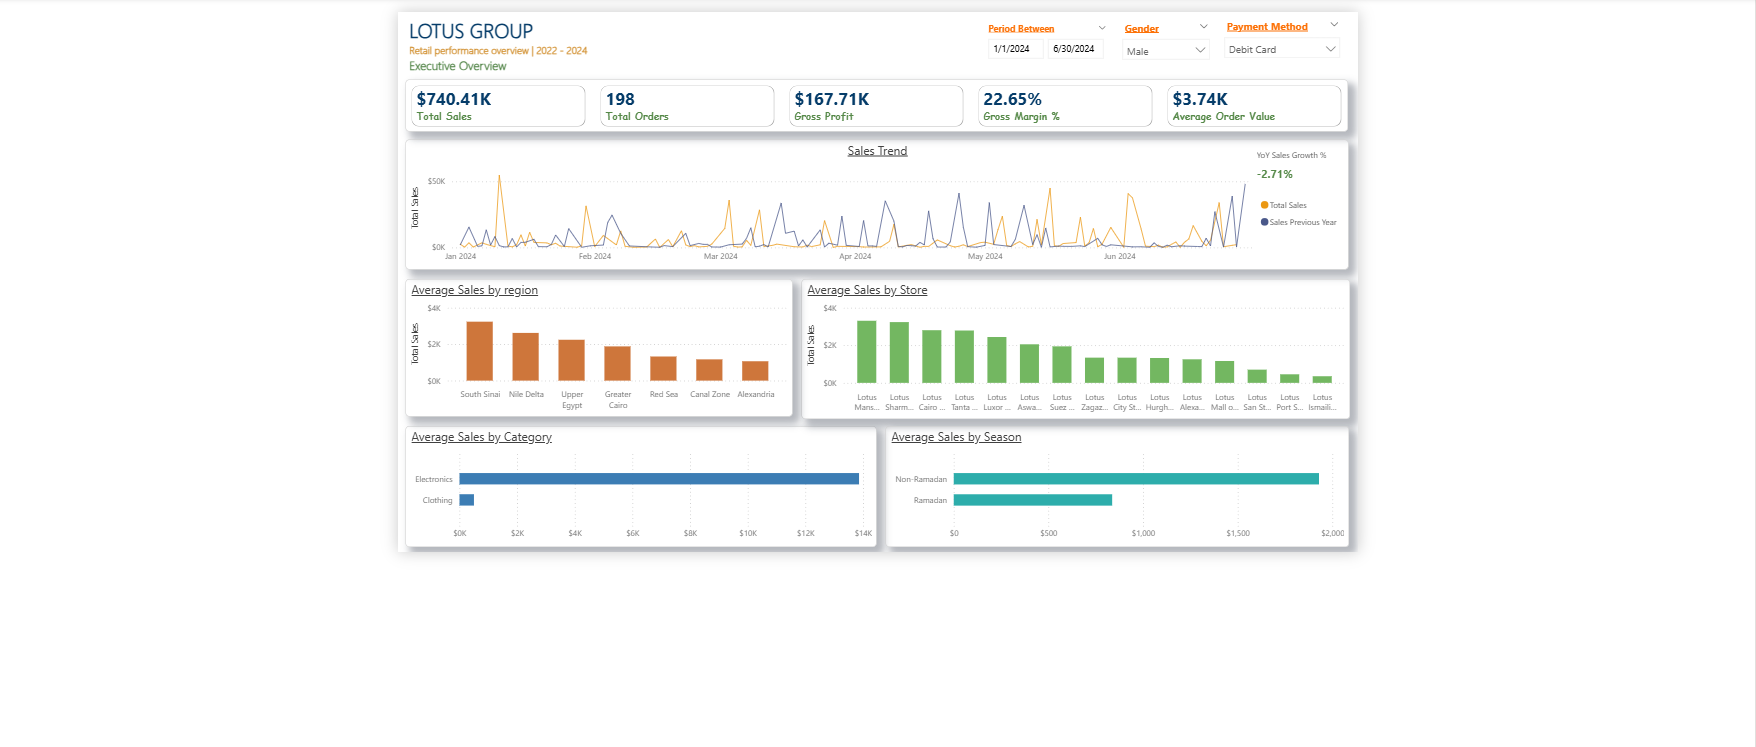

This screenshot's page, from the dashboard's own definition file:
{"tool":"powerbi","page":{"name":"Executve Overview","canvas":[1280,720],"ordinal":0},"visuals":[{"type":"textbox","box":[10.6,0,306.6,91.6],"z":0},{"type":"cardVisual","fields":{"Data":["_Measures.Total Sales","_Measures.Total Orders","_Measures.Gross Profit","_Measures.Gross Margin %","_Measures.Average Order Value"]},"box":[10.6,90.3,1257,69],"z":1000},{"type":"lineChart","title":"Sales Trend","fields":{"Y":["_Measures.Total Sales","_Measures.Sales Previous Year"],"Category":["dim_date.full_date"]},"box":[10.6,171.1,1256.8,174.1],"z":2000},{"type":"slicer","fields":{"Values":["dim_date.full_date"]},"box":[774.1,8.2,182.4,63.5],"z":3000},{"type":"cardVisual","fields":{"Data":["_Measures.YoY Sales Growth %"]},"box":[1132.1,176.8,131.8,57.4],"z":4000},{"type":"clusteredBarChart","title":"Sales by Category","fields":{"Category":["dim_products.category"],"Y":["_Measures.Total Sales"]},"box":[10.9,552.1,628.1,161.3],"z":5000},{"type":"clusteredColumnChart","title":"Sales by Store","fields":{"Category":["dim_stores.store_name"],"Y":["_Measures.Total Sales"]},"box":[537.5,357.4,729.8,187.8],"z":6000},{"type":"clusteredColumnChart","fields":{"Category":["dim_stores.region"],"Y":["_Measures.Total Sales"]},"box":[10.6,357.4,516.3,184.7],"z":7000},{"type":"clusteredBarChart","title":"Ramadan vs Non-Ramadan Sales","fields":{"Category":["dim_date.Period Type"],"Y":["_Measures.Total Sales"]},"box":[650.2,552.2,617.9,161.4],"z":8000},{"type":"slicer","fields":{"Values":["dim_customers.gender"]},"box":[955.3,6.2,136.5,63.6],"z":9000},{"type":"slicer","fields":{"Values":["fact_orders.payment_method"]},"box":[1091.8,4.7,174.1,60],"z":10000}]}

Visuals, with their boxes on the page's 1280x720 design canvas (x1, y1, x2, y2). These are canvas units, not pixel positions in the 1756x747 screenshot, which may show the page scaled, cropped or inside an application window:
textbox: 11 0 317 92
cardVisual - _Measures.Total Sales x _Measures.Total Orders: 11 90 1268 159
"Sales Trend" lineChart: 11 171 1267 345
slicer - dim_date.full_date: 774 8 956 72
cardVisual - _Measures.YoY Sales Growth %: 1132 177 1264 234
"Sales by Category" clusteredBarChart: 11 552 639 713
"Sales by Store" clusteredColumnChart: 538 357 1267 545
clusteredColumnChart - dim_stores.region x _Measures.Total Sales: 11 357 527 542
"Ramadan vs Non-Ramadan Sales" clusteredBarChart: 650 552 1268 714
slicer - dim_customers.gender: 955 6 1092 70
slicer - fact_orders.payment_method: 1092 5 1266 65
